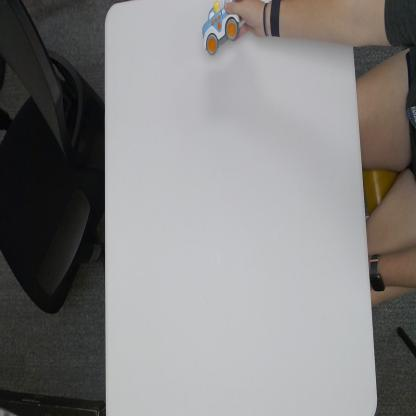Arm: (282, 0, 356, 46)
Car: (201, 0, 242, 57)
Hand: (224, 0, 267, 40)
